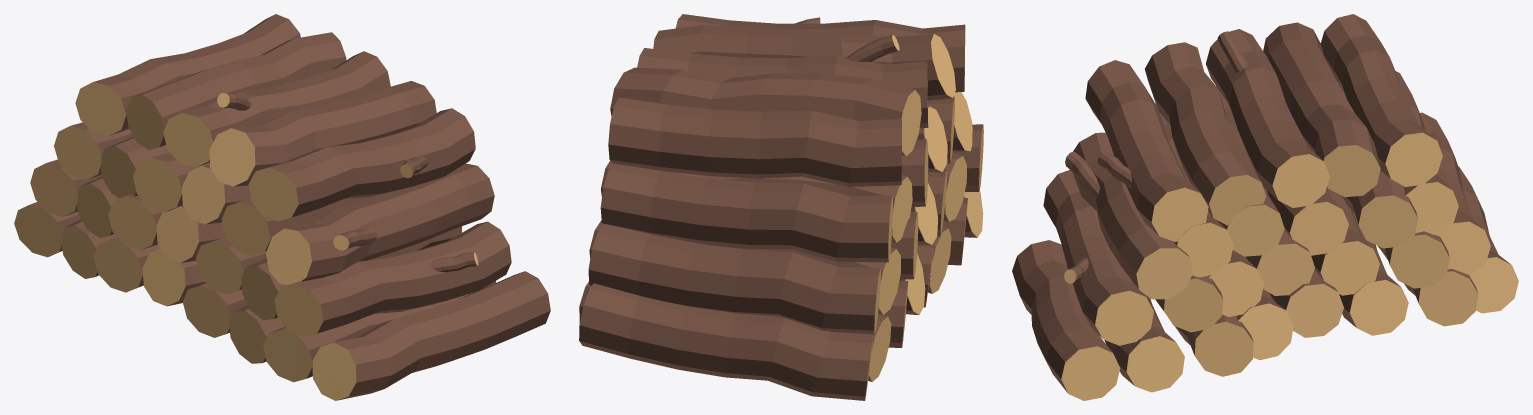
The model's file is wood_pile_progressive.glb.
3 views of the same model, side by side, from view 1: azimuth 30°, elevation 25°; view 2: azimuth 150°, elevation 25°; view 3: azimuth 270°, elevation 25° (orthographic). The views are drawn at different scales.
Visible parts, largest first — view 1: Pile_29, Pile_01, Pile_18; view 2: Pile_29, Pile_05, Pile_18, Pile_10, Pile_01; view 3: Pile_29, Pile_18, Pile_10, Pile_05, Pile_01.
Boxes of the visible parts, x1=… form: Pile_29: x1=14, y1=14, x2=511, y2=382; Pile_01: x1=313, y1=271, x2=550, y2=400; Pile_18: x1=133, y1=153, x2=525, y2=393; Pile_29: x1=590, y1=14, x2=983, y2=400; Pile_05: x1=579, y1=220, x2=906, y2=400; Pile_18: x1=901, y1=103, x2=981, y2=265; Pile_10: x1=891, y1=207, x2=942, y2=315; Pile_01: x1=964, y1=190, x2=983, y2=237; Pile_29: x1=1043, y1=14, x2=1495, y2=392; Pile_18: x1=1049, y1=86, x2=1348, y2=400; Pile_10: x1=1223, y1=188, x2=1379, y2=376; Pile_05: x1=1350, y1=112, x2=1518, y2=335; Pile_01: x1=1012, y1=240, x2=1096, y2=400.
Size of the model in its own units: 0.9358 by 0.6571 by 1.18.
